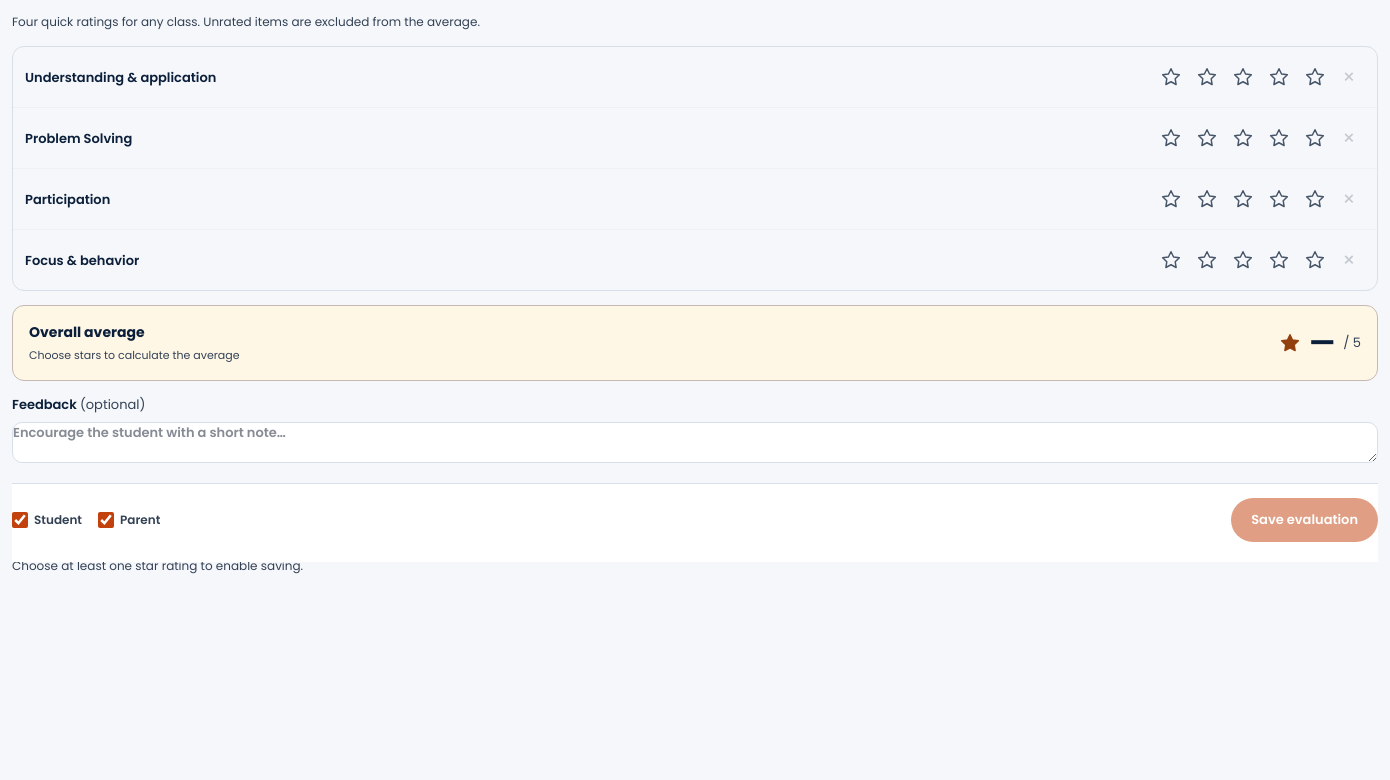
Test: quick evaluation stars › starts unrated and calculates equal-weight averages excluding untouched skills
Expected: the button "Save evaluation" is disabled, [1231,498,1378,542]
Expected: the text named "Overall average" reads "—", [1309,323,1335,362]
Click the radio button named "Understanding & application: 4 stars" at (1279, 77), box [1268,66,1290,88]
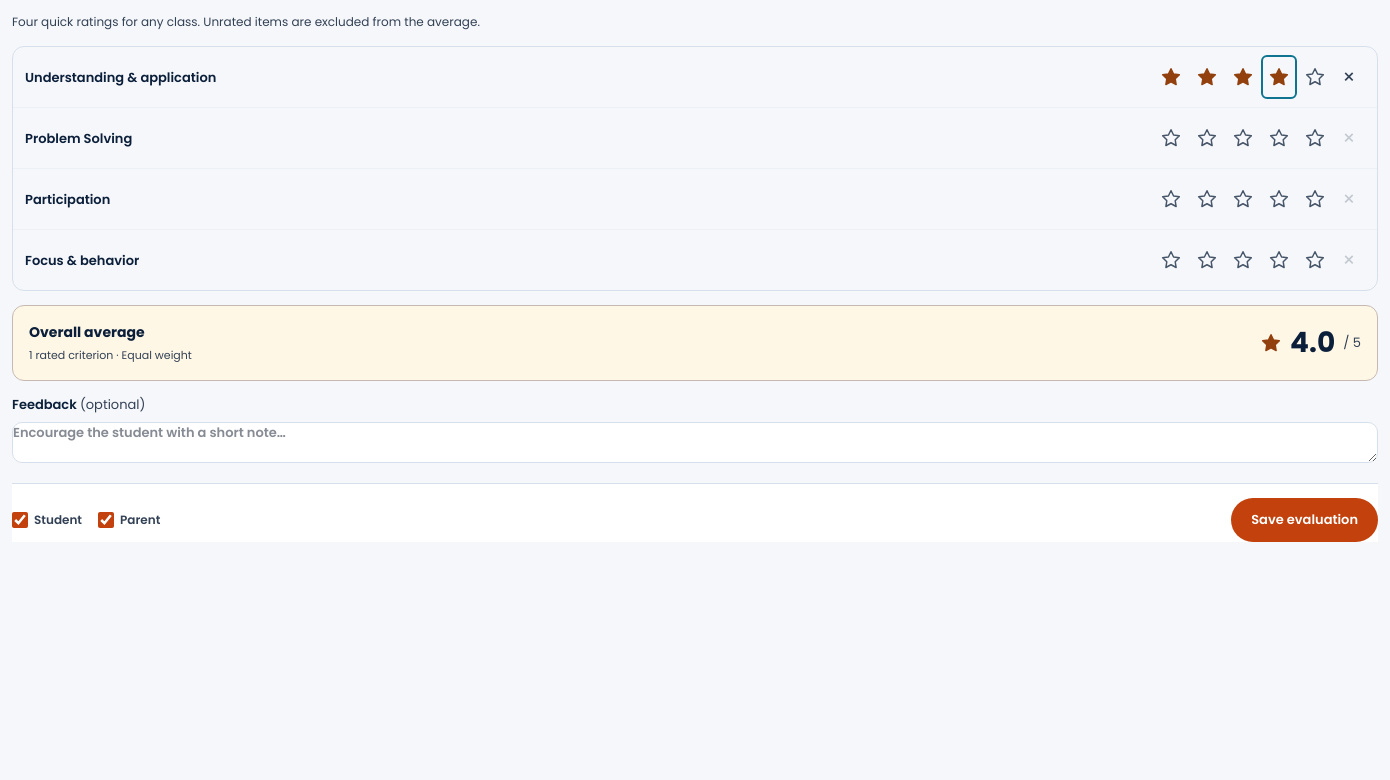
Click the radio button named "Problem Solving: 5 stars" at (1315, 138), box [1304,127,1326,149]
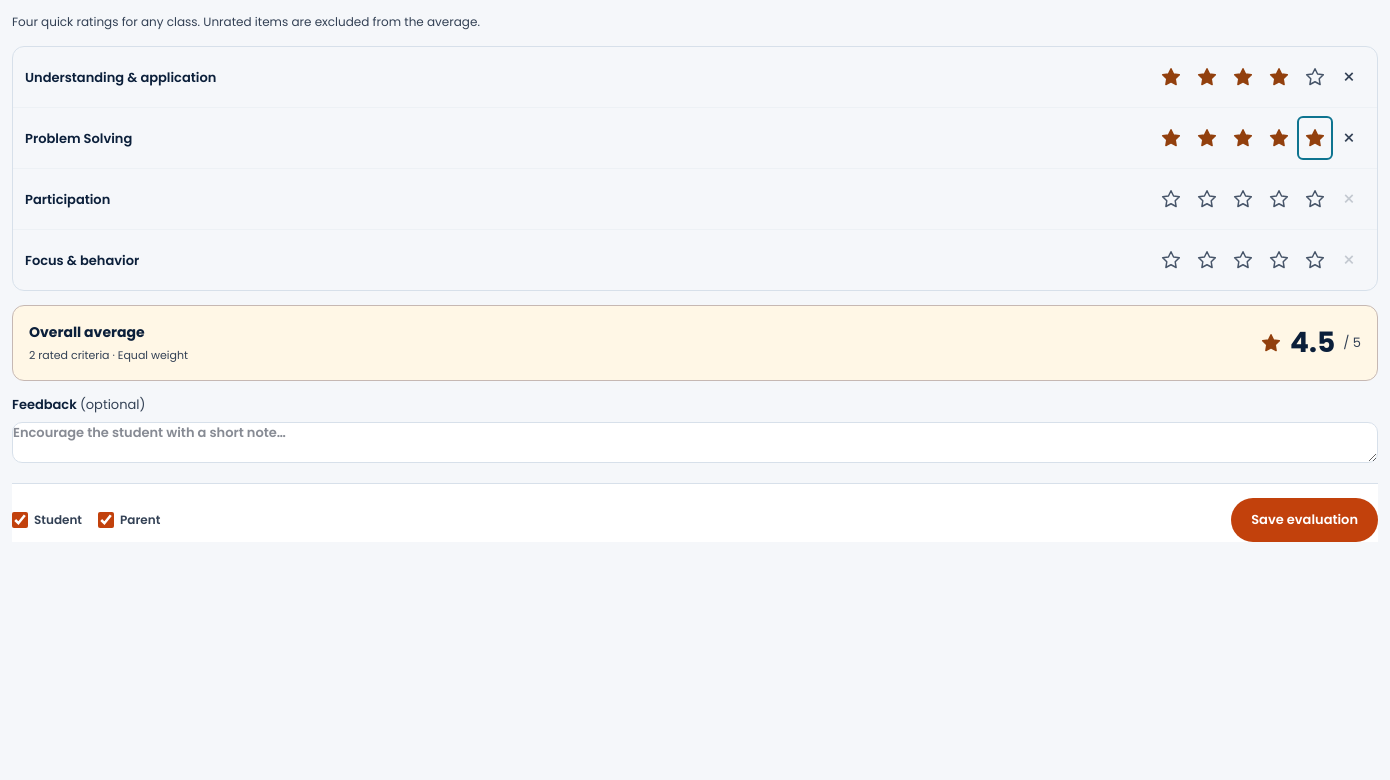
Result: the text named "Overall average" reads "4.5" at [1290,323,1335,362]
Result: the text "2 rated criteria · Equal weight" is shown at [29,347,188,364]
Click the button named "Clear Understanding & application rating" at (1349, 77), box [1333,55,1365,99]
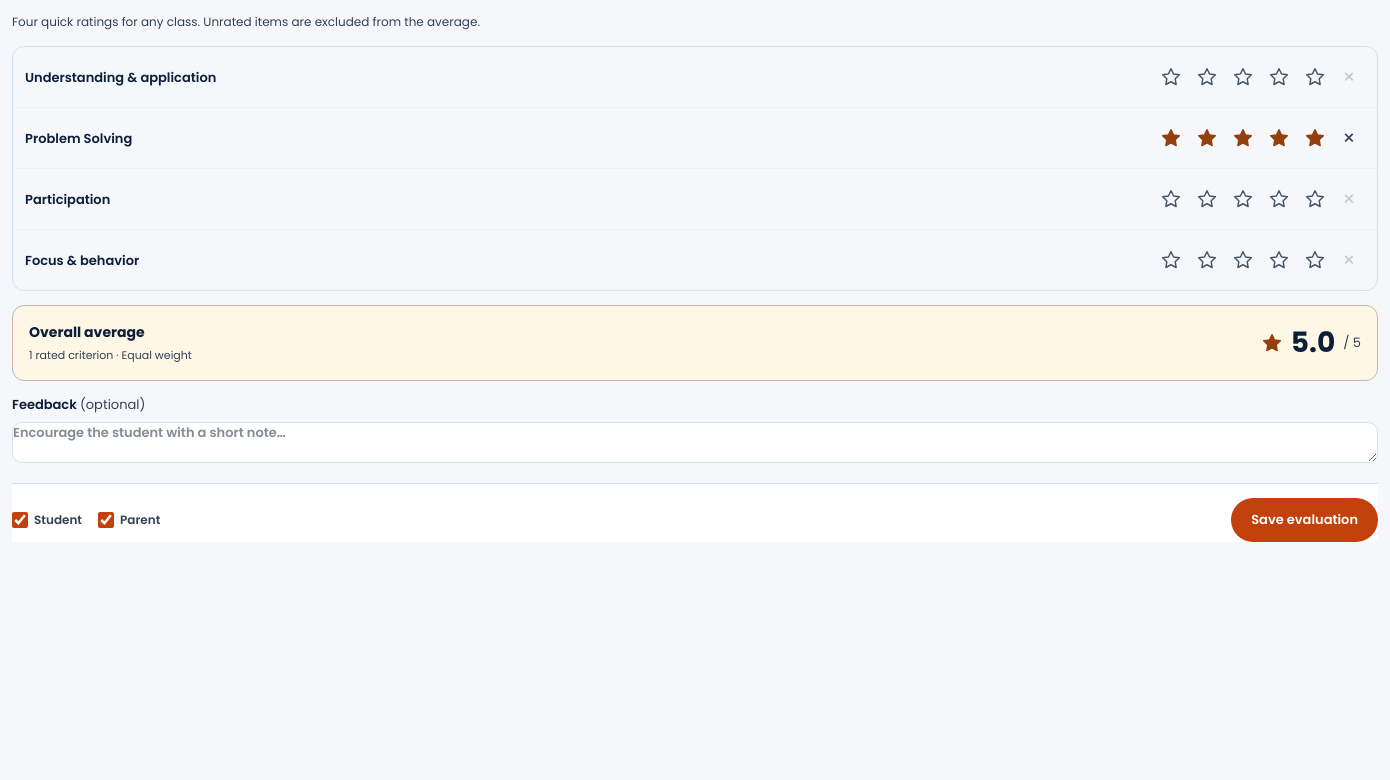
Result: the text named "Overall average" reads "5.0" at [1291,323,1335,362]
